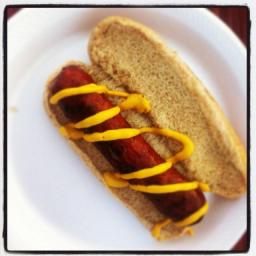hotdog: (52, 64, 208, 236)
